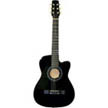guitar: (33, 1, 75, 108)
